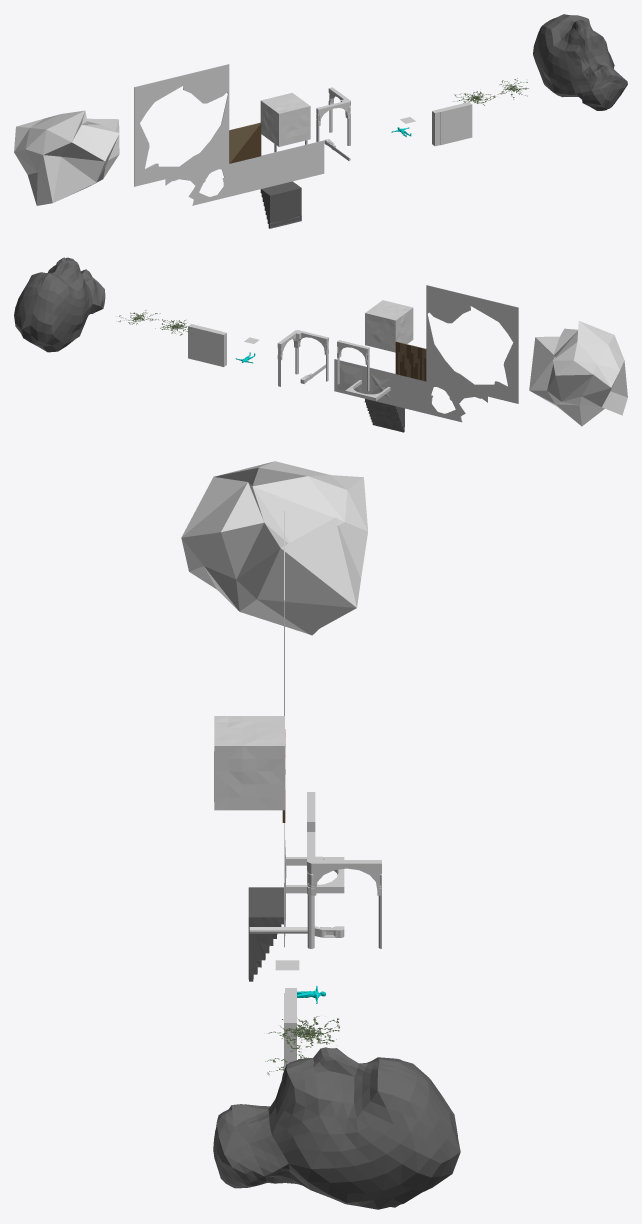
Rendered from Temple Ruins.fbx.
3 renders of one model, top to bottom at view 1: azimuth 30°, elevation 25°; view 2: azimuth 150°, elevation 25°; view 3: azimuth 270°, elevation 25°, orthographic. The views are drawn at different scales.
Parts seen in each view (by area): view 1: Icosphere, Bust, Ruined Floor Large, Temple Block 1, Ruined Stairs 1, Rim 1, Interior Wood Floor, Floor 3, Floor 2, Floor 1, Arch 2 Corner, Ruined Floor 1 (+2 smaller); view 2: Icosphere, Bust, Ruined Floor Large, Temple Block 1, Rim 1, Interior Wood Floor, Floor 1, Ruined Stairs 1, Floor 2, Floor 3, Arch 2 Corner, Ruined Floor 1 (+4 smaller); view 3: Bust, Icosphere, Temple Block 1, Ruined Stairs 1, Arch 2 Corner.
Boxes of the visible parts, <box> form: Icosphere: <box>14,110,119,205</box>; Bust: <box>533,14,627,110</box>; Ruined Floor Large: <box>134,64,229,186</box>; Temple Block 1: <box>260,92,310,146</box>; Ruined Stairs 1: <box>260,181,301,228</box>; Rim 1: <box>437,102,472,145</box>; Interior Wood Floor: <box>229,122,261,163</box>; Floor 3: <box>292,140,324,181</box>; Floor 2: <box>261,148,292,188</box>; Floor 1: <box>229,156,260,196</box>; Arch 2 Corner: <box>316,87,350,145</box>; Ruined Floor 1: <box>197,164,229,204</box>; Icosphere: <box>529,321,627,426</box>; Bust: <box>14,257,105,352</box>; Ruined Floor Large: <box>426,285,518,403</box>; Temple Block 1: <box>365,300,413,352</box>; Rim 1: <box>188,324,221,365</box>; Interior Wood Floor: <box>395,341,426,381</box>; Floor 1: <box>395,374,426,413</box>; Ruined Stairs 1: <box>364,399,404,432</box>; Floor 2: <box>365,366,395,405</box>; Floor 3: <box>334,359,364,393</box>; Arch 2 Corner: <box>277,330,328,386</box>; Ruined Floor 1: <box>426,381,456,420</box>; Bust: <box>213,1047,460,1209</box>; Icosphere: <box>181,461,367,635</box>; Temple Block 1: <box>214,716,285,810</box>; Ruined Stairs 1: <box>248,887,283,981</box>; Arch 2 Corner: <box>307,832,381,948</box>.
Bounding box in the file's own units: 11297 × 3000 × 2365.
